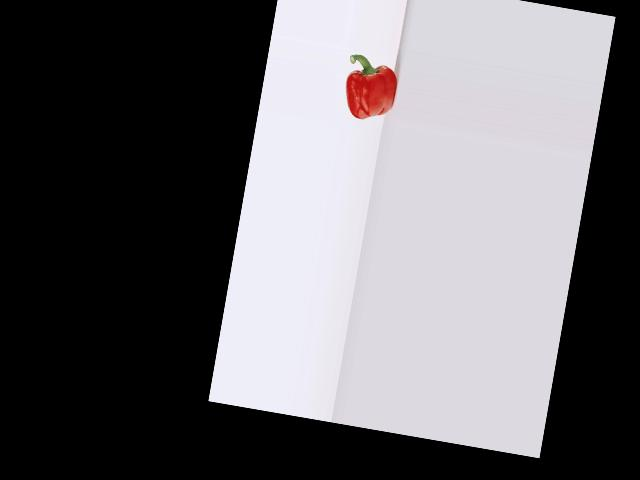bell_pepper: (337, 46, 404, 127)
